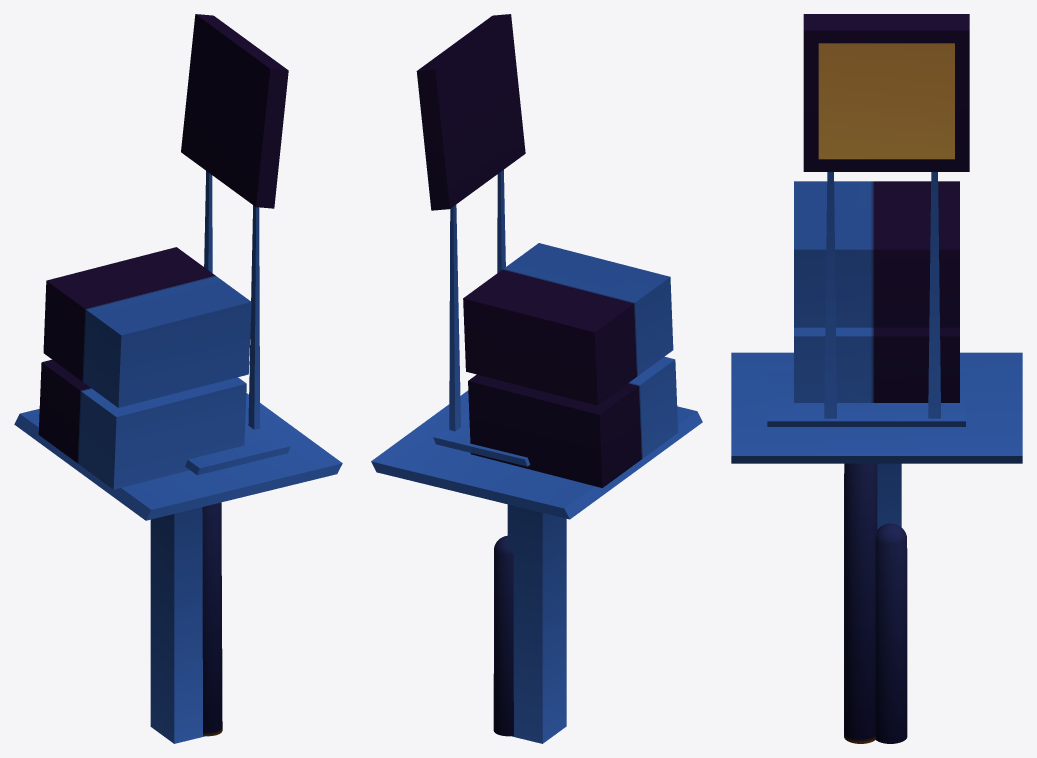
File: CarLight.glb
3 views of the same model, side by side, from view 1: azimuth 30°, elevation 25°; view 2: azimuth 150°, elevation 25°; view 3: azimuth 270°, elevation 25° (orthographic). The views are drawn at different scales.
Visible parts, largest first — view 1: Cube.004, Cube.003, Cube.021, Cube, Cube.001, Sphere.002, Cube.002, Cube.005, Cube.006; view 2: Cube.004, Cube.003, Cube.021, Cube, Cube.001, Sphere.001, Cube.006, Cube.002, Cube.005; view 3: Cube.021, Cube.004, Cube.001, Cube.003, Sphere.002, Sphere.001, Cube.002, Cube.005, Cube.006, Cube.
Part boxes in pixels (x1,y1,x2,y2): Cube.004: [43, 247, 251, 407]; Cube.003: [38, 359, 246, 489]; Cube.021: [181, 14, 288, 208]; Cube: [150, 507, 205, 743]; Cube.001: [14, 393, 342, 520]; Sphere.002: [202, 502, 222, 736]; Cube.002: [185, 413, 290, 475]; Cube.005: [248, 205, 260, 429]; Cube.006: [204, 171, 212, 272]; Cube.004: [463, 243, 673, 405]; Cube.003: [468, 356, 678, 487]; Cube.021: [416, 14, 525, 210]; Cube: [507, 504, 566, 743]; Cube.001: [371, 390, 702, 519]; Sphere.001: [493, 535, 513, 736]; Cube.006: [449, 205, 460, 431]; Cube.002: [433, 411, 529, 466]; Cube.005: [497, 170, 505, 272]; Cube.021: [803, 14, 969, 171]; Cube.004: [794, 181, 959, 327]; Cube.001: [731, 352, 1022, 463]; Cube.003: [794, 327, 959, 402]; Sphere.002: [844, 463, 877, 743]; Sphere.001: [875, 523, 907, 743]; Cube.002: [767, 372, 965, 426]; Cube.005: [824, 172, 836, 418]; Cube.006: [928, 172, 940, 418]; Cube: [877, 463, 901, 529].
Size of the model in its own units: 54.13 by 173 by 61.47.
Materials: 1 (1 with a texture image).
